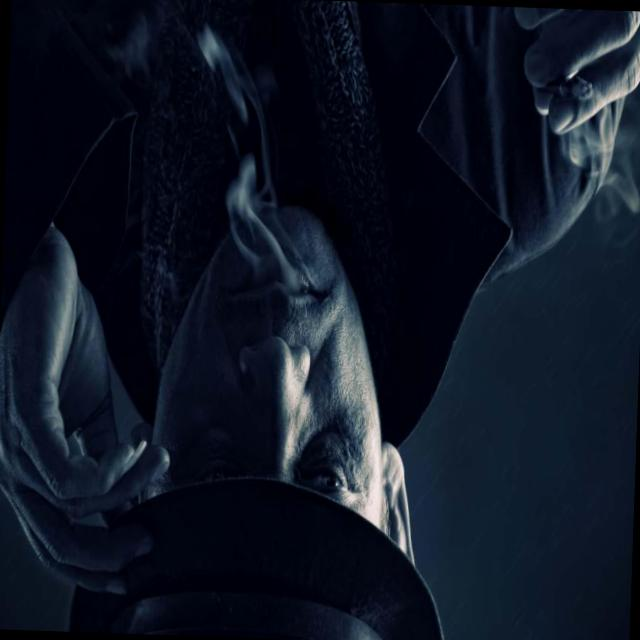smoke: (525, 62, 614, 125)
